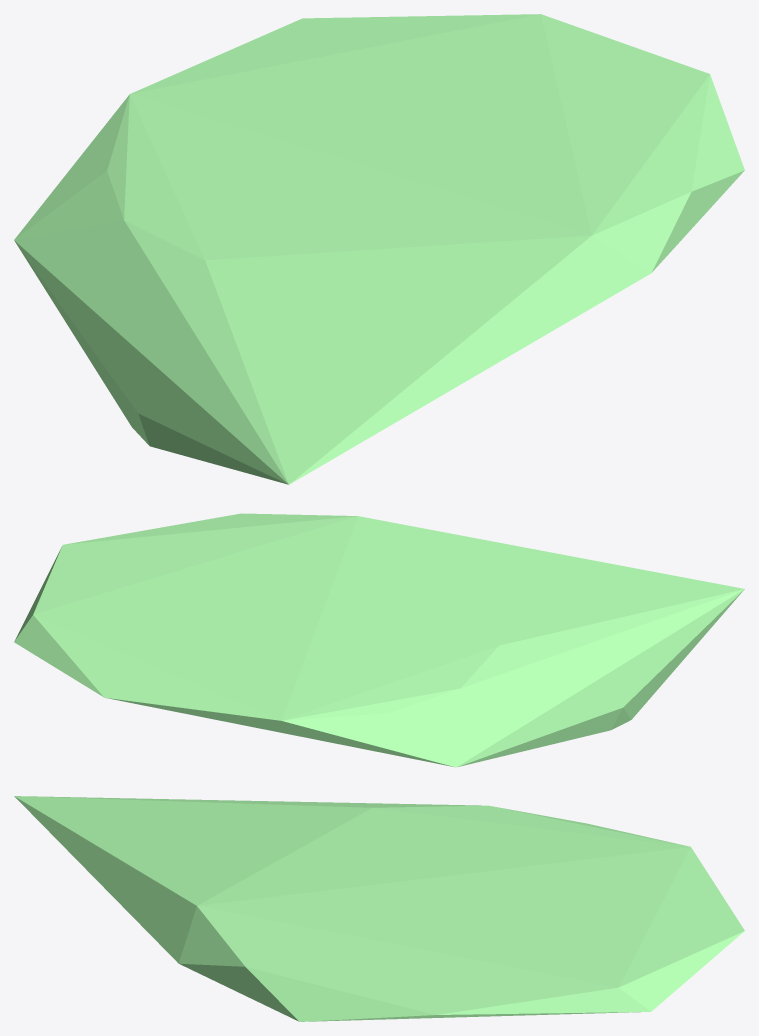
Rendered from linkhou_LR4_R560_link5_respondable_coll_11.dae.
3 views of the same model, one above another, from view 1: azimuth 30°, elevation 25°; view 2: azimuth 150°, elevation 25°; view 3: azimuth 270°, elevation 25° (orthographic). The views are drawn at different scales.
Visible parts, largest first — view 1: Node_00000209DB3AB530; view 2: Node_00000209DB3AB530; view 3: Node_00000209DB3AB530.
Part boxes in pixels (x1,y1,x2,y2): Node_00000209DB3AB530: [14, 14, 744, 484]; Node_00000209DB3AB530: [14, 513, 744, 767]; Node_00000209DB3AB530: [14, 796, 744, 1021].
Size of the model in its own units: 0.0671 by 0.0138 by 0.0732.
